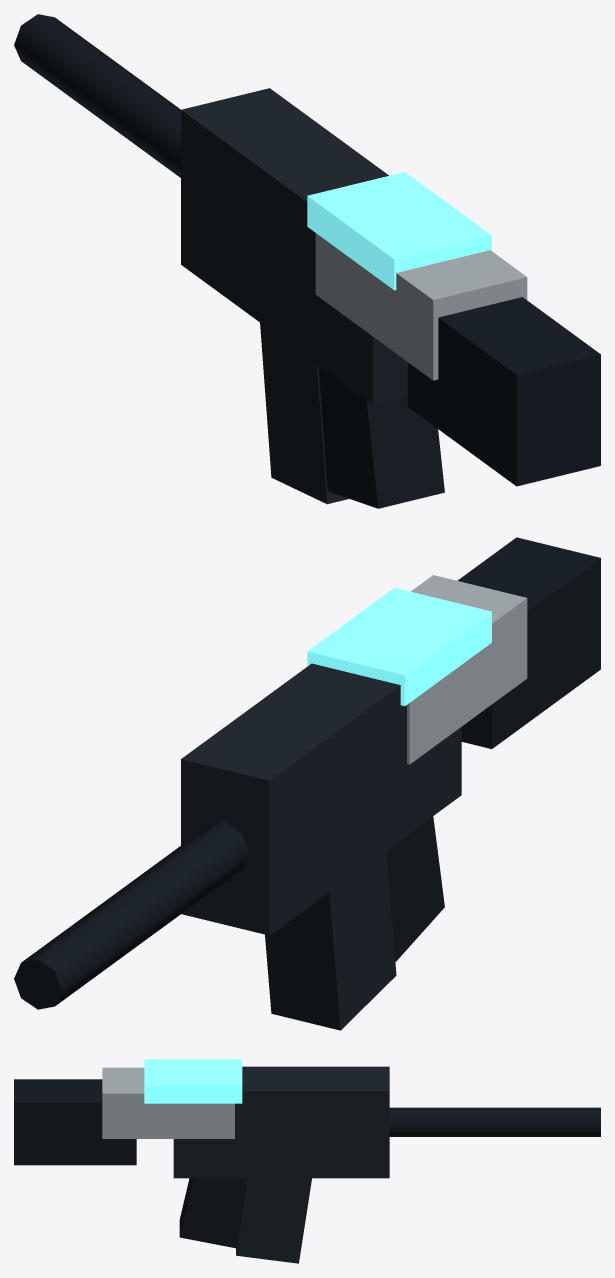
Rendered from np_z05_assaut_ameliore.glb.
3 renders of one model, top to bottom at view 1: azimuth 30°, elevation 25°; view 2: azimuth 150°, elevation 25°; view 3: azimuth 270°, elevation 25°, orthographic. The views are drawn at different scales.
Visible parts, largest first — view 1: Corps, Crosse, Culasse, ModuleAmeliore, Poignee, Canon, Chargeur; view 2: Corps, Crosse, Chargeur, Canon, ModuleAmeliore, Culasse, Poignee; view 3: Corps, Crosse, Canon, Culasse, Chargeur, ModuleAmeliore, Poignee.
Part boxes in pixels (x1,y1,x2,y2): Corps: (181,88,407,404); Crosse: (407,297,600,486); Culasse: (315,233,527,380); ModuleAmeliore: (307,172,491,290); Poignee: (318,365,444,508); Canon: (14,14,180,177); Chargeur: (260,323,348,504); Corps: (181,663,461,935); Crosse: (457,537,600,748); Chargeur: (265,851,396,1030); Canon: (14,822,249,1009); ModuleAmeliore: (307,587,491,706); Culasse: (407,575,527,764); Poignee: (386,816,444,961); Corps: (173,1066,389,1178); Crosse: (14,1079,136,1165); Canon: (389,1107,600,1136); Culasse: (102,1067,234,1138); Chargeur: (236,1178,311,1263); ModuleAmeliore: (144,1059,242,1103); Poignee: (179,1178,247,1248).
Bounding box in the file's own units: 0.132 × 0.4158 × 1.22.
